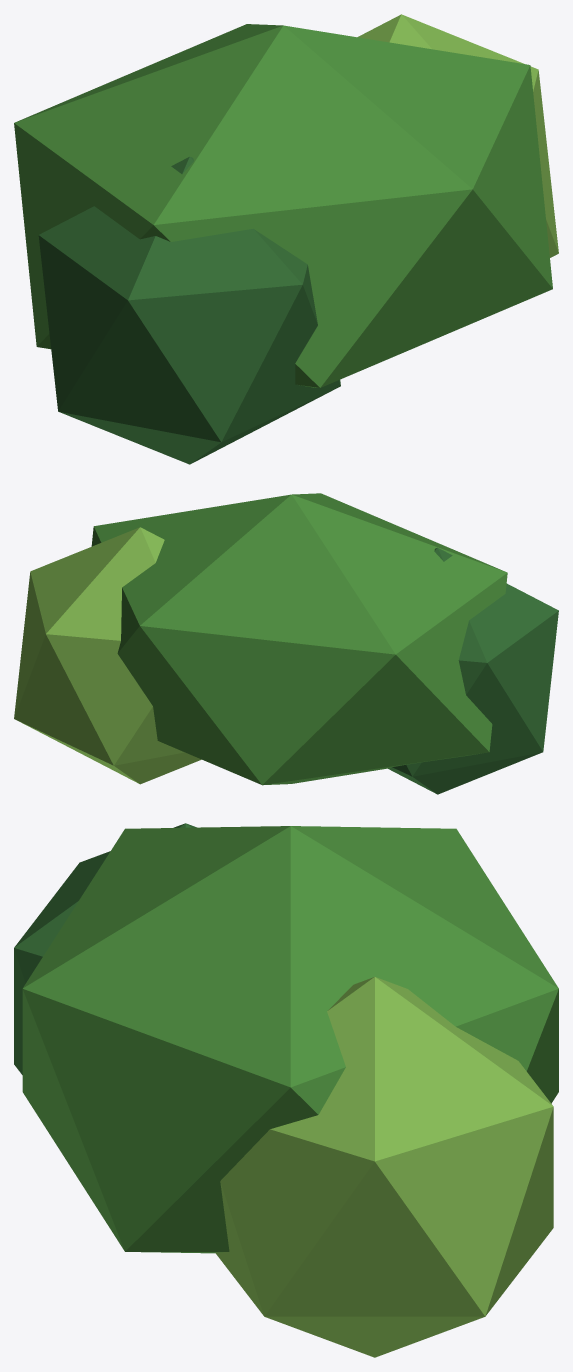
File: bush.glb
3 renders of one model, top to bottom at view 1: azimuth 30°, elevation 25°; view 2: azimuth 150°, elevation 25°; view 3: azimuth 270°, elevation 25°, orthographic. The views are drawn at different scales.
Parts seen in each view (by area): view 1: bush; view 2: bush; view 3: bush.
Part boxes in pixels (x1,y1,x2,y2): bush: [14, 14, 558, 464]; bush: [14, 493, 558, 794]; bush: [14, 823, 558, 1357].
Bounding box in the file's own units: 1.83 × 1.16 × 1.3.
